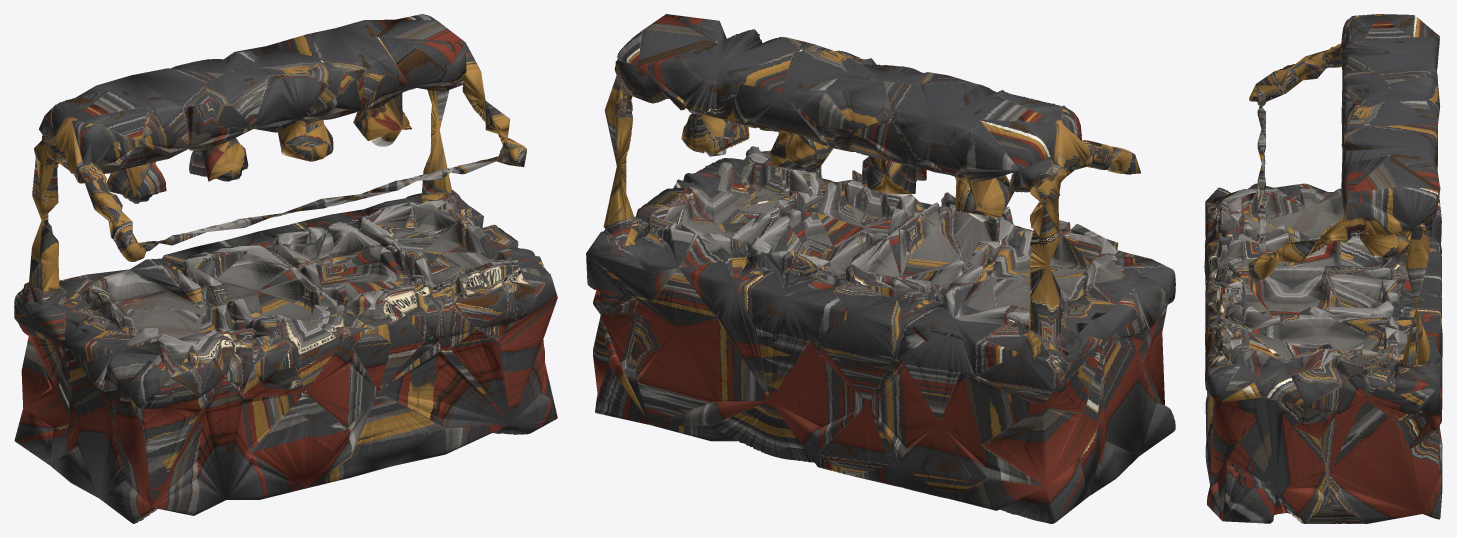
The model's file is BuffetFoodStation.glb.
3 views of the same model, side by side, from view 1: azimuth 30°, elevation 25°; view 2: azimuth 150°, elevation 25°; view 3: azimuth 270°, elevation 25° (orthographic). The views are drawn at different scales.
Visible parts, largest first — view 1: BuffetFoodStation; view 2: BuffetFoodStation; view 3: BuffetFoodStation.
Boxes of the visible parts, x1,y1,x2,y2 form: BuffetFoodStation: (14, 14, 557, 523); BuffetFoodStation: (586, 14, 1175, 523); BuffetFoodStation: (1204, 14, 1442, 523).
Size of the model in its own units: 1.9 by 1.44 by 0.9485.
1 material, 1 textured.
